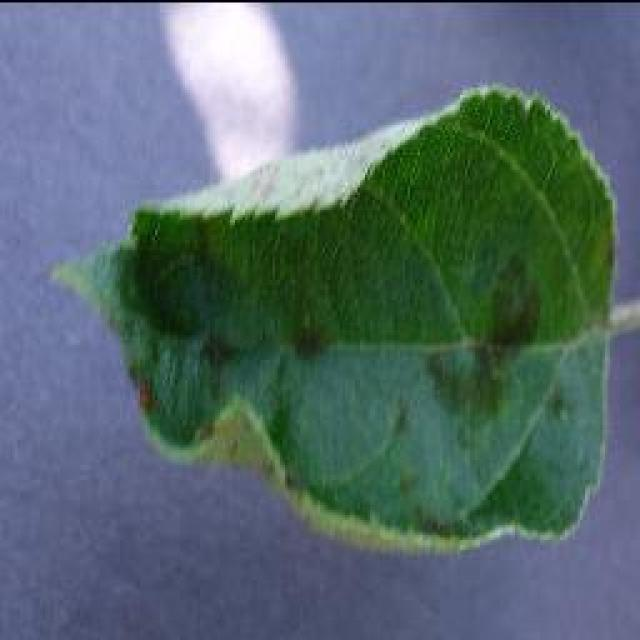apple scab disease: (50, 80, 632, 558)
